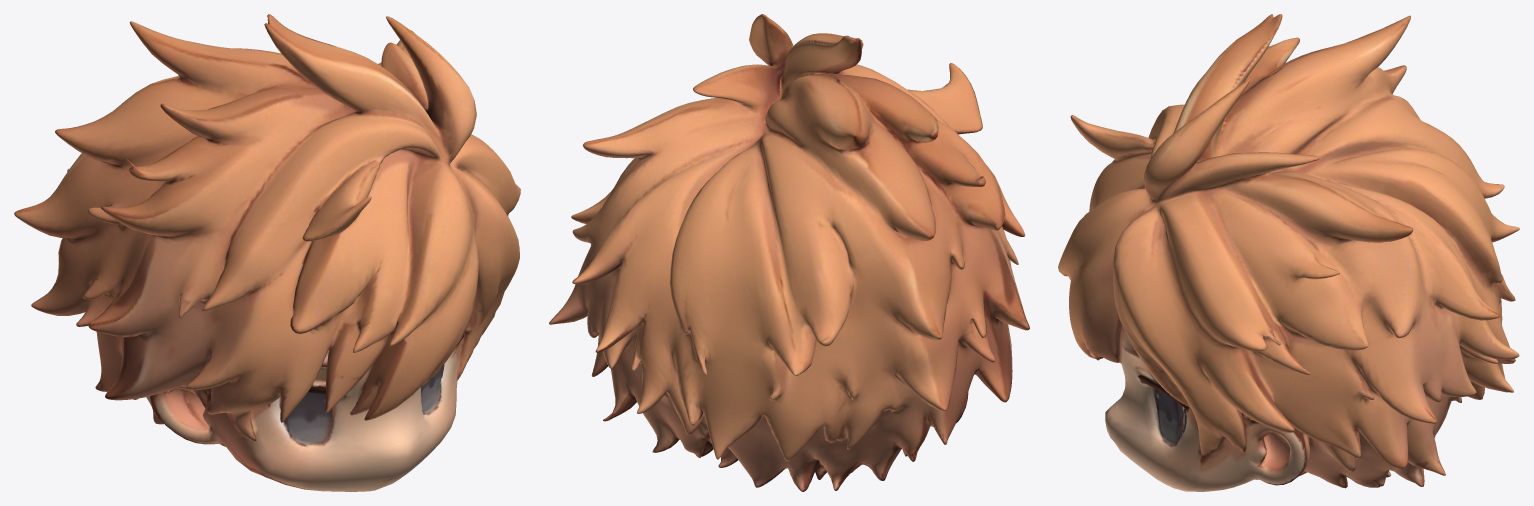
3 views of the same model, side by side, from view 1: azimuth 30°, elevation 25°; view 2: azimuth 150°, elevation 25°; view 3: azimuth 270°, elevation 25° (orthographic). The views are drawn at different scales.
Parts seen in each view (by area): view 1: tripo_node_4634cb5f-f180-4ff3-9074-54bc26f83f26; view 2: tripo_node_4634cb5f-f180-4ff3-9074-54bc26f83f26; view 3: tripo_node_4634cb5f-f180-4ff3-9074-54bc26f83f26.
Boxes of the visible parts, x1,y1,x2,y2 form: tripo_node_4634cb5f-f180-4ff3-9074-54bc26f83f26: (14,14,520,491); tripo_node_4634cb5f-f180-4ff3-9074-54bc26f83f26: (549,14,1029,491); tripo_node_4634cb5f-f180-4ff3-9074-54bc26f83f26: (1058,14,1519,491).
Bounding box in the file's own units: 0.9724 × 0.9552 × 0.9139.
1 material, 1 textured.
